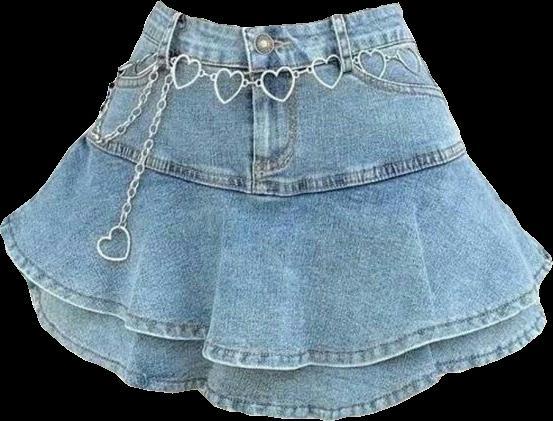Hemline: (0, 221, 552, 373), (23, 275, 548, 420)
Waistline: (83, 134, 468, 194), (138, 33, 417, 69), (155, 0, 400, 30)
